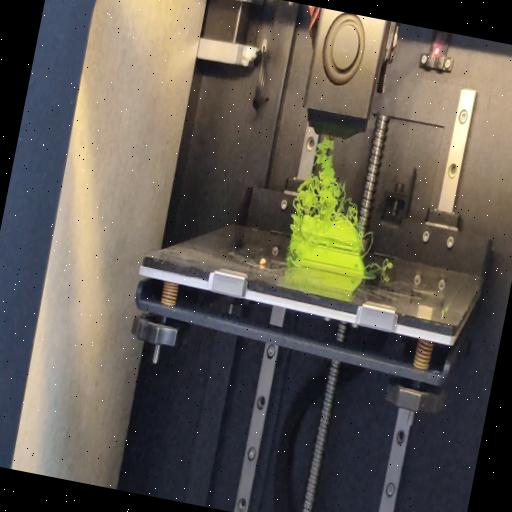spaghetti: (292, 135, 374, 228), (284, 218, 302, 266), (358, 229, 378, 262), (368, 255, 394, 276)
